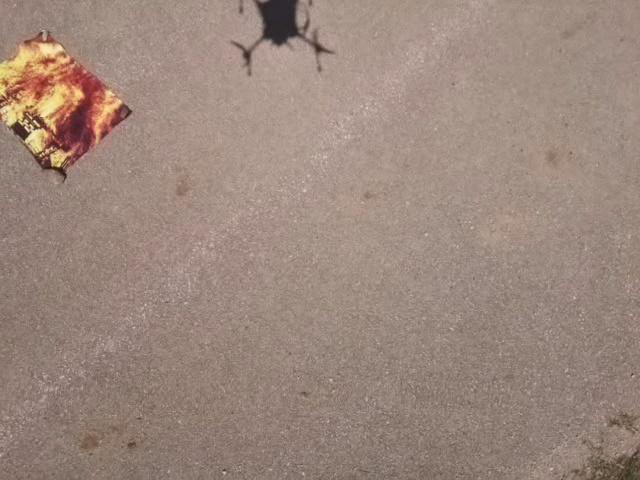fire-poster: (0, 27, 134, 184)
